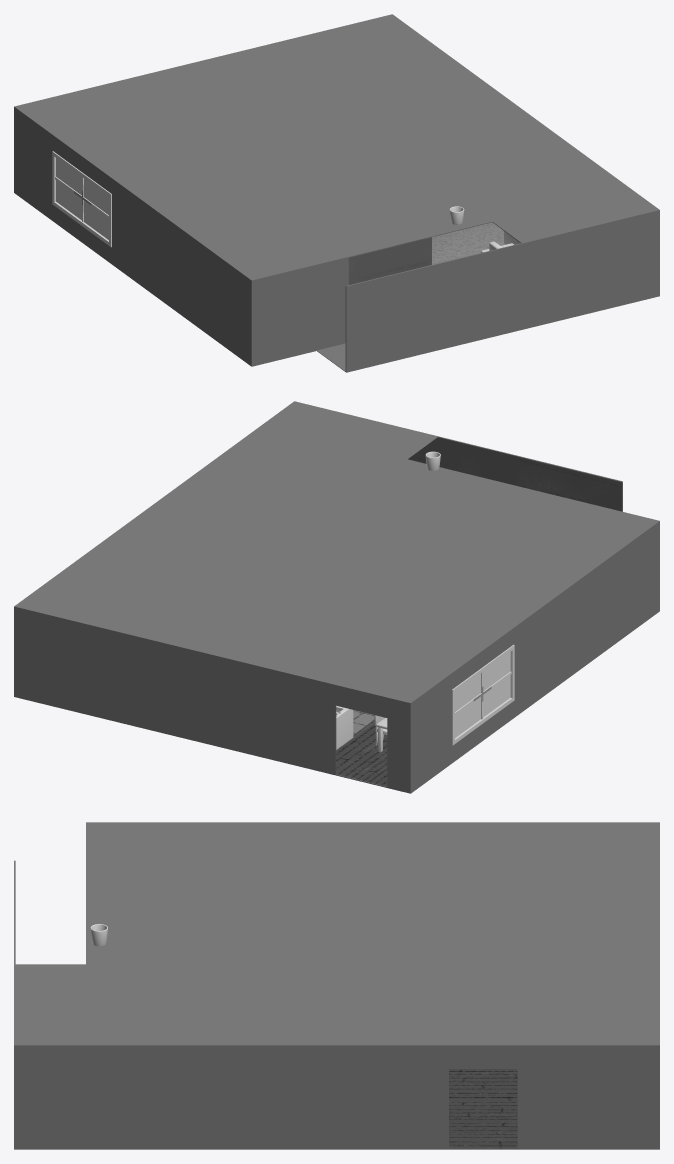
File: Downstairs.fbx
3 renders of one model, top to bottom at view 1: azimuth 30°, elevation 25°; view 2: azimuth 150°, elevation 25°; view 3: azimuth 270°, elevation 25°, orthographic. The views are drawn at different scales.
Visible parts, largest first — view 1: Downstairs, WindowFrame.001; view 2: Downstairs, WindowFrame.001, KitchenCounter; view 3: Downstairs.
Part boxes in pixels (left/top/right/bottom): Downstairs: left=14, top=14, right=659, bottom=372; WindowFrame.001: left=52, top=151, right=111, bottom=247; Downstairs: left=14, top=401, right=659, bottom=793; WindowFrame.001: left=452, top=644, right=514, bottom=745; KitchenCounter: left=336, top=706, right=353, bottom=749; Downstairs: left=14, top=822, right=659, bottom=1149.
Bounding box in the file's own units: 2342 × 602 × 2860.
